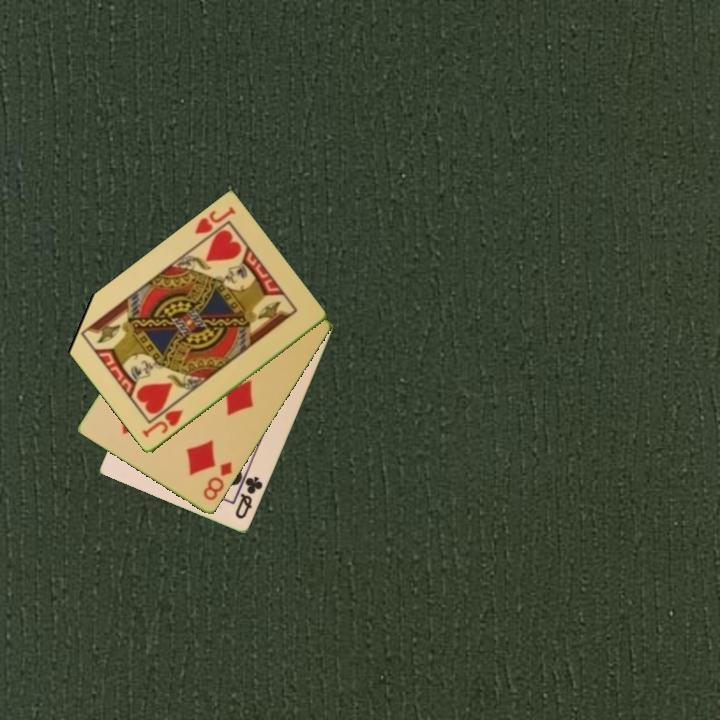8d: (200, 458, 235, 504)
Jh: (138, 406, 186, 441), (191, 203, 239, 238)
Qc: (232, 473, 266, 522)
